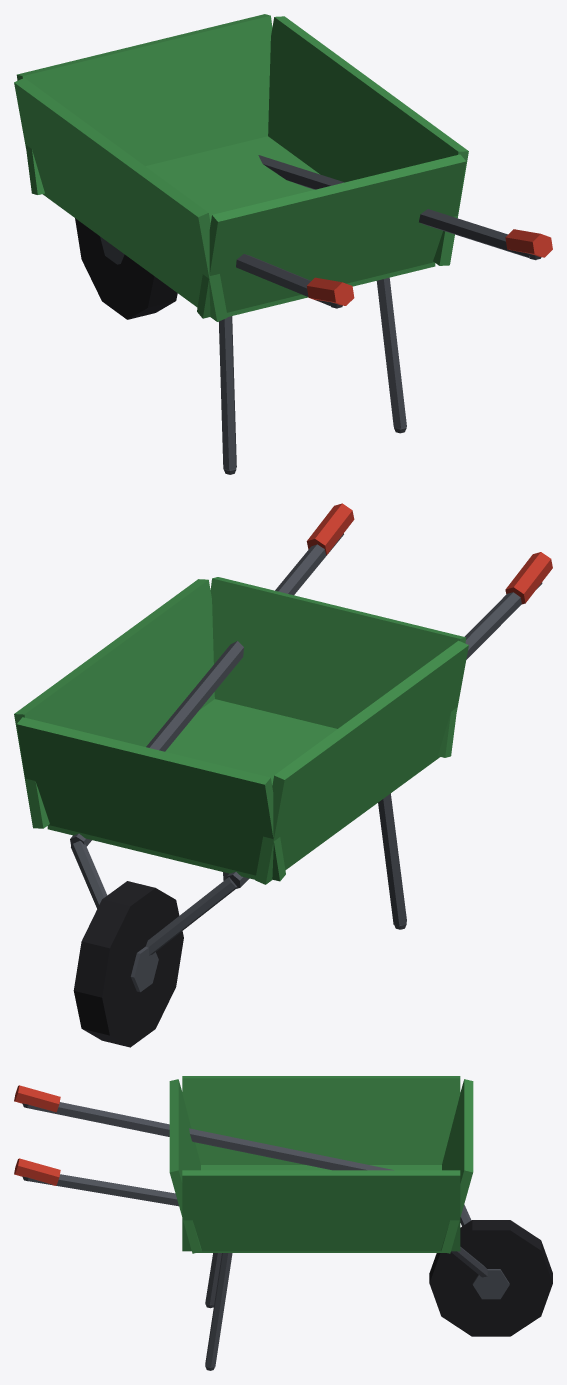
File: wheelbarrow.glb
3 views of the same model, one above another, from view 1: azimuth 30°, elevation 25°; view 2: azimuth 150°, elevation 25°; view 3: azimuth 270°, elevation 25° (orthographic). The views are drawn at different scales.
Parts seen in each view (by area): view 1: tray_wb_tray, frame_wb_steel, wheel_wb_tire, frame_wb_grip (×2); view 2: tray_wb_tray, wheel_wb_tire, frame_wb_steel, frame_wb_grip (×2), wheel_wb_steel; view 3: tray_wb_tray, wheel_wb_tire, frame_wb_steel, frame_wb_grip (×2), wheel_wb_steel.
Boxes of the visible parts, x1=… form: tray_wb_tray: x1=14, y1=14, x2=468, y2=321; frame_wb_steel: x1=219, y1=155, x2=541, y2=474; wheel_wb_tire: x1=75, y1=218, x2=177, y2=319; frame_wb_grip (×2): x1=307, y1=229, x2=552, y2=305; tray_wb_tray: x1=14, y1=577, x2=468, y2=884; wheel_wb_tire: x1=73, y1=881, x2=183, y2=1047; frame_wb_steel: x1=70, y1=533, x2=542, y2=955; frame_wb_grip (×2): x1=306, y1=503, x2=552, y2=604; wheel_wb_steel: x1=130, y1=946, x2=158, y2=992; tray_wb_tray: x1=169, y1=1076, x2=473, y2=1253; wheel_wb_tire: x1=429, y1=1220, x2=552, y2=1336; frame_wb_steel: x1=22, y1=1102, x2=487, y2=1370; frame_wb_grip (×2): x1=14, y1=1085, x2=60, y2=1185; wheel_wb_steel: x1=472, y1=1269, x2=509, y2=1299.
Bounding box in the file's own units: 0.7632 × 0.7773 × 1.75.
